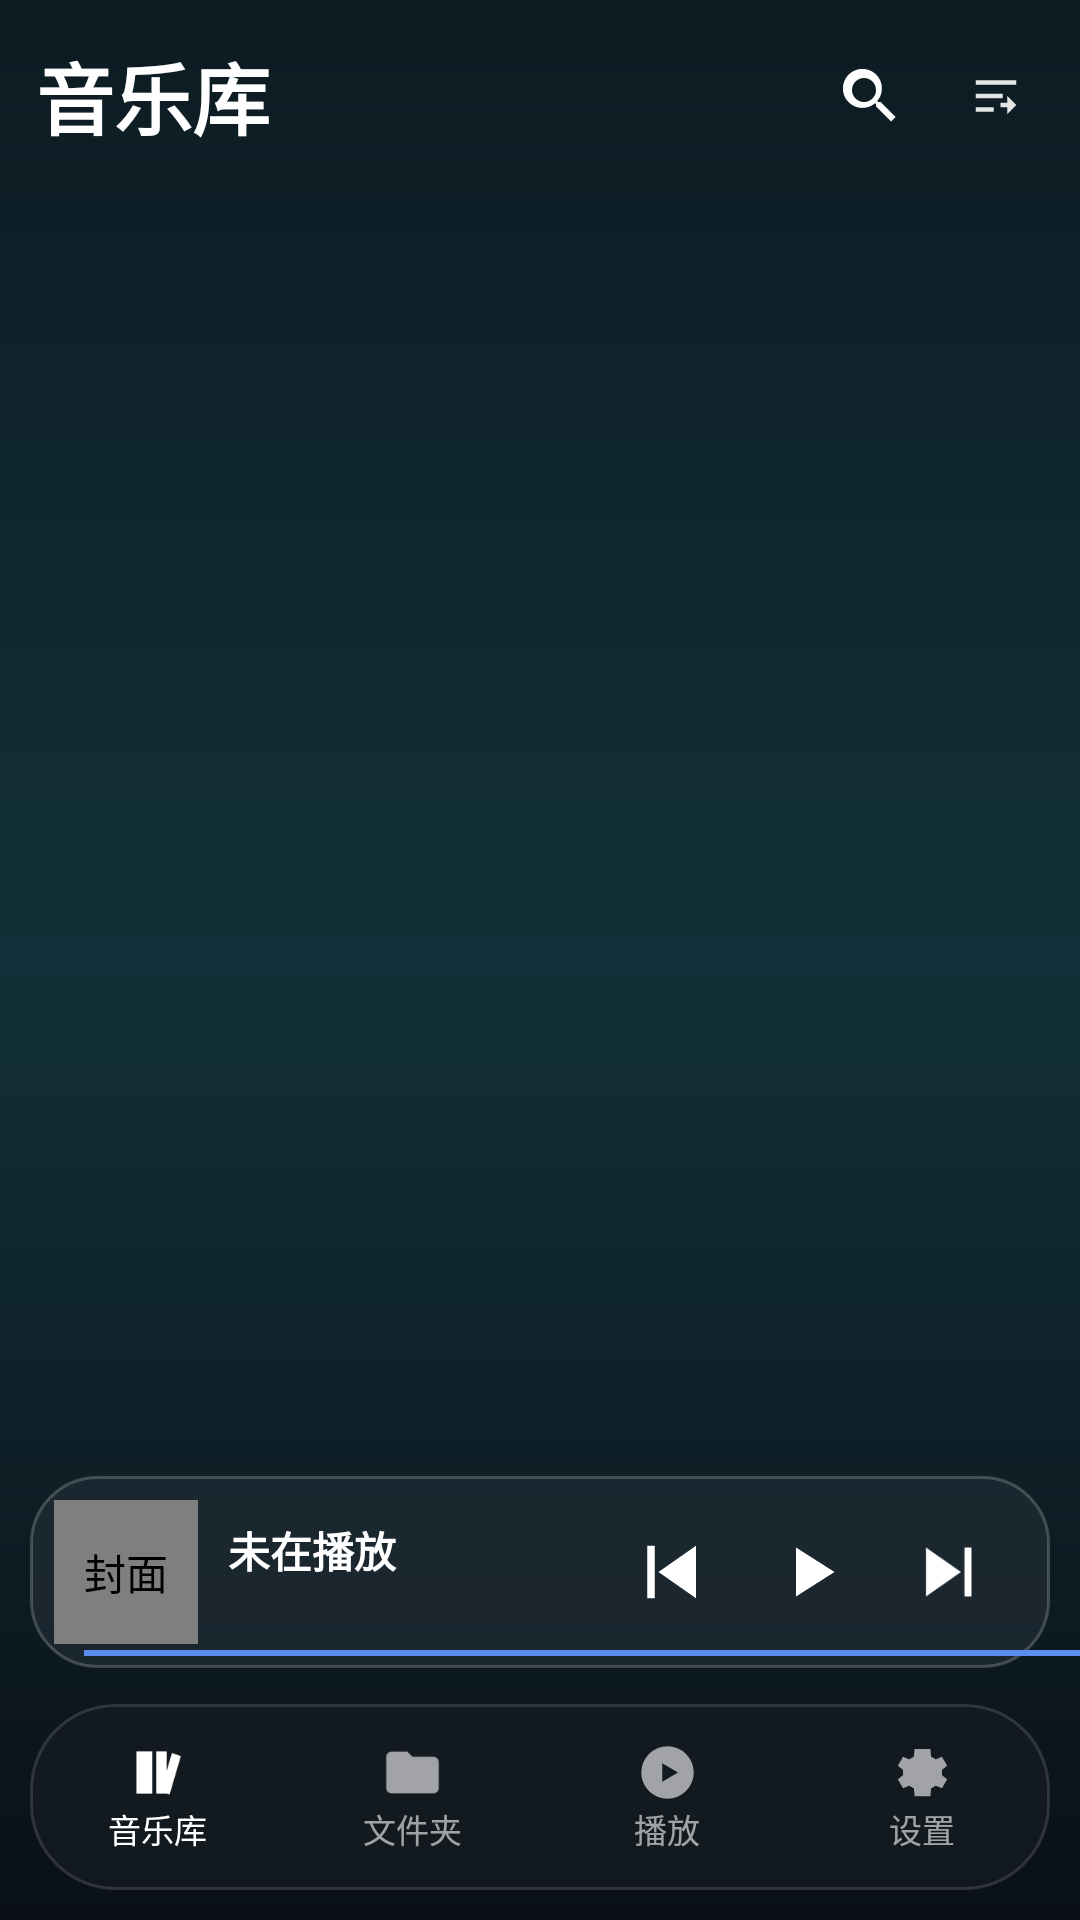

Point at icon controls on the screen. Image size 1080×1920, points as (x,y).
play: (815,1572)
上一首: (671,1572)
下一首: (948,1572)
排序与布局: (996,97)
搜索: (869,95)
